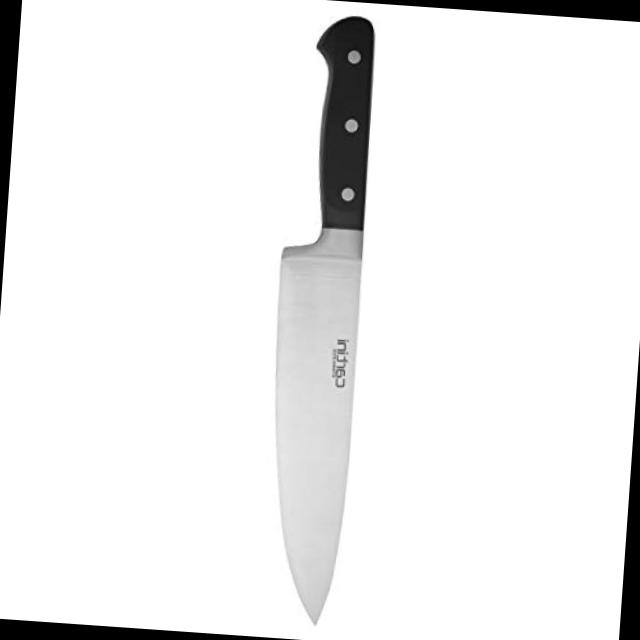Weapon: (248, 2, 396, 634)
